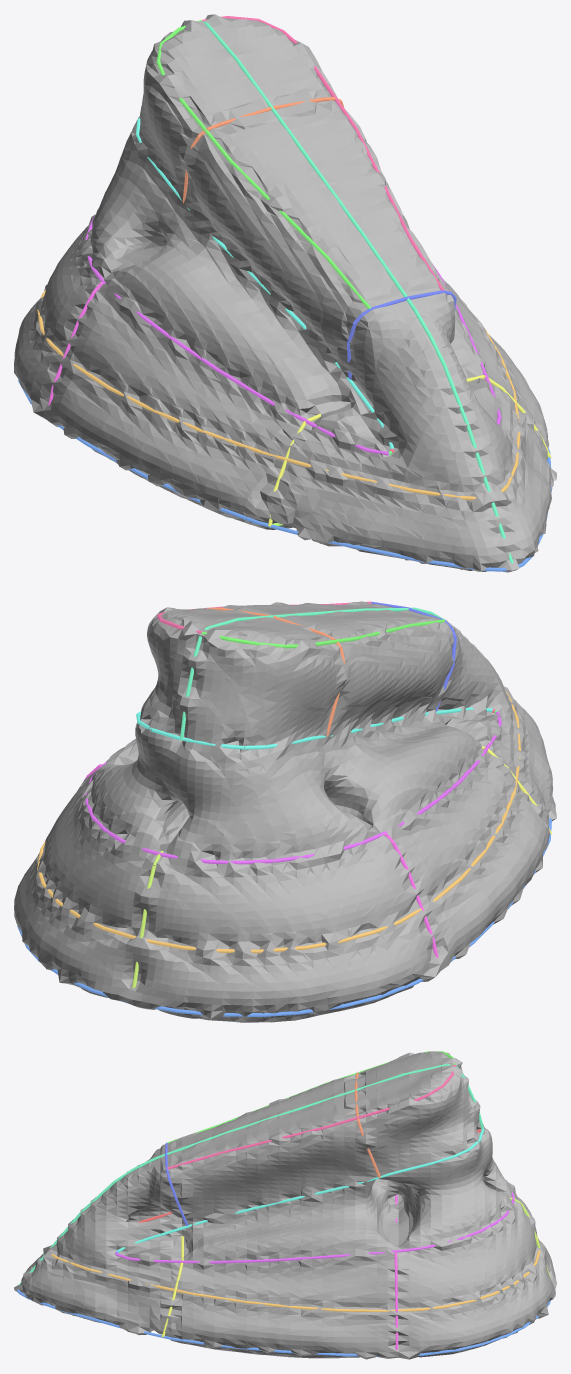
File: t2f_iron.gltf
The picture shows the model from 3 angles, top to bottom: view 1: azimuth 30°, elevation 25°; view 2: azimuth 150°, elevation 25°; view 3: azimuth 270°, elevation 25°; orthographic projection. The views are drawn at different scales.
Size of the model in its own units: 0.4858 by 0.4149 by 0.8105.
